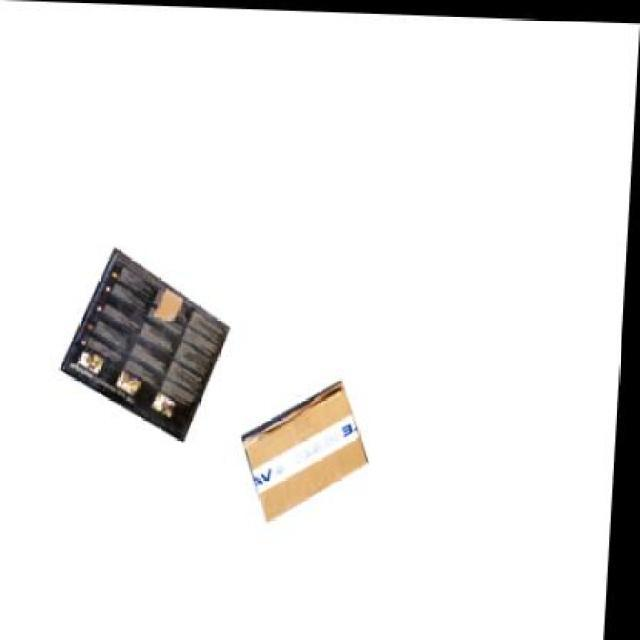box: (63, 249, 235, 439), (243, 373, 376, 522)
